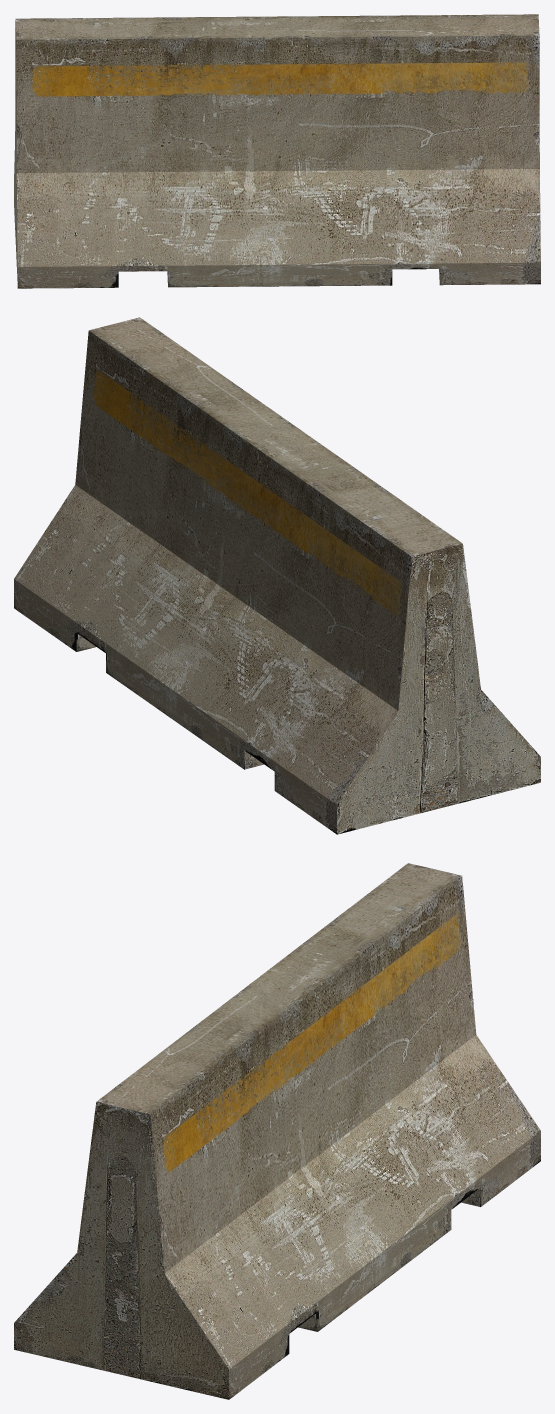
Rendered from Road_block_v1 (6).glb.
3 views of the same model, one above another, from view 1: azimuth 30°, elevation 25°; view 2: azimuth 150°, elevation 25°; view 3: azimuth 270°, elevation 25° (orthographic). The views are drawn at different scales.
Parts seen in each view (by area): view 1: Road_block_v1 (6); view 2: Road_block_v1 (6); view 3: Road_block_v1 (6).
Part boxes in pixels (box(x1,y1,x2,y2)): Road_block_v1 (6): box(14, 14, 540, 288); Road_block_v1 (6): box(14, 317, 540, 834); Road_block_v1 (6): box(14, 863, 540, 1399).
Size of the model in its own units: 2.49 by 1.07 by 1.92.
Materials: 1 (1 with a texture image).
